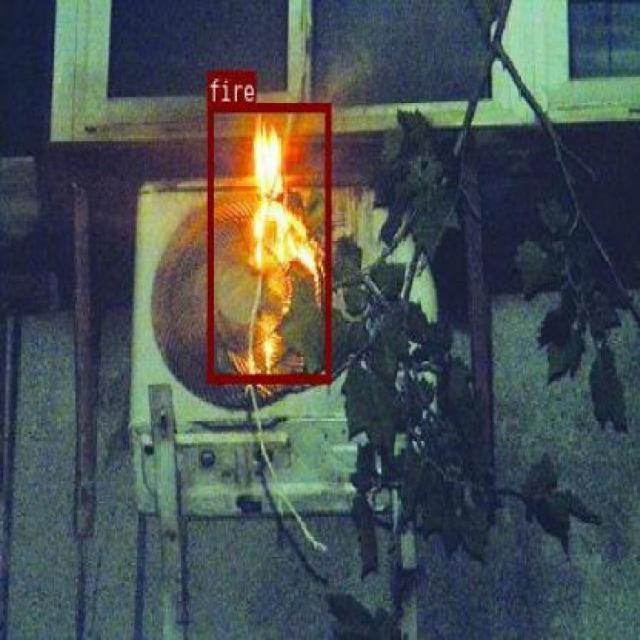Fire: (122, 242, 268, 279)
